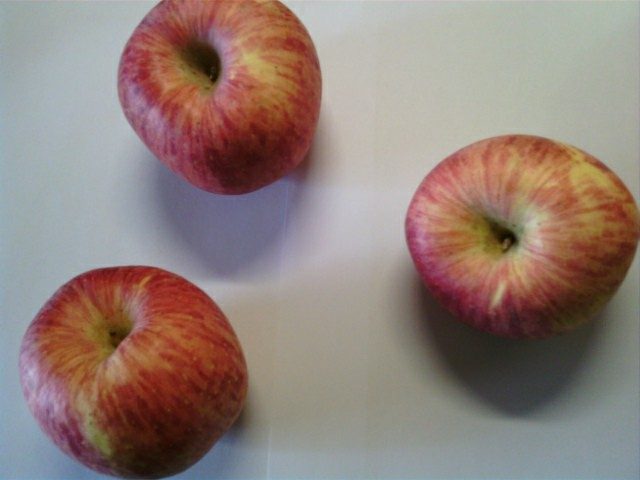normal_apple: (15, 263, 250, 480), (407, 132, 640, 346), (117, 1, 325, 195)
